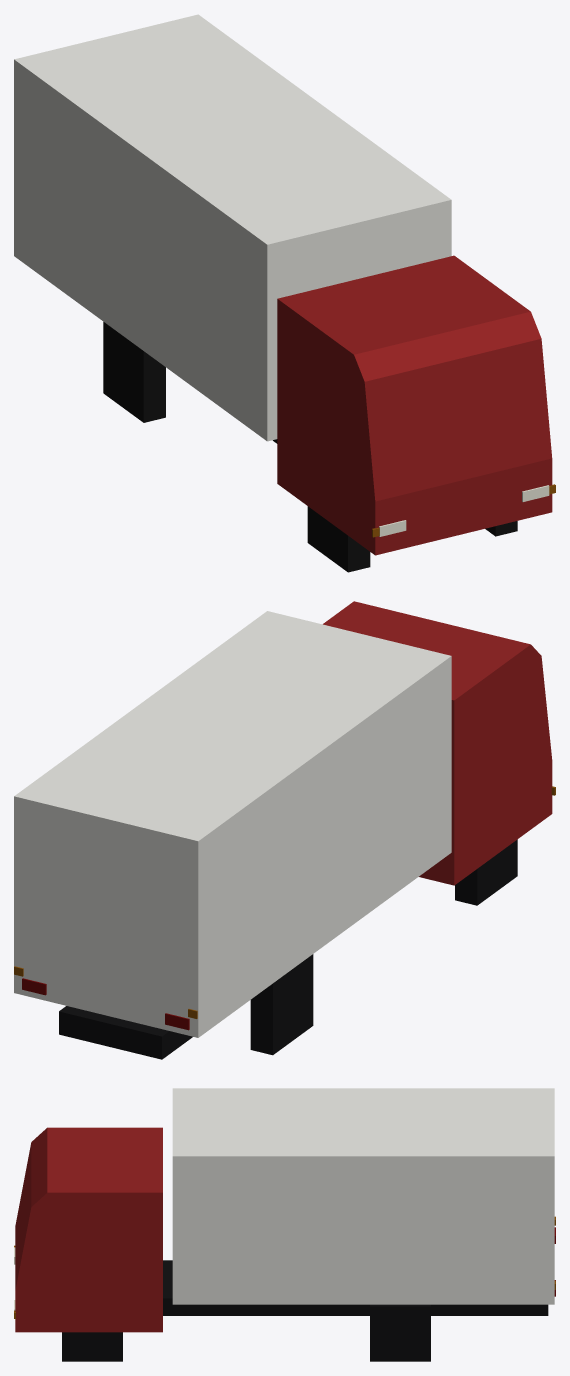
The picture shows the model from 3 angles, top to bottom: view 1: azimuth 30°, elevation 25°; view 2: azimuth 150°, elevation 25°; view 3: azimuth 270°, elevation 25°; orthographic projection. The views are drawn at different scales.
Parts seen in each view (by area): view 1: box, cab, wheels; view 2: box, cab, wheels, chassis; view 3: box, cab, wheels, chassis.
Boxes of the visible parts, x1,y1,x2,y2 form: box: [14, 14, 451, 441]; cab: [277, 255, 552, 555]; wheels: [103, 322, 517, 572]; box: [14, 611, 451, 1037]; cab: [323, 601, 552, 885]; wheels: [250, 839, 517, 1055]; chassis: [59, 1006, 192, 1059]; box: [172, 1088, 554, 1304]; cab: [15, 1127, 162, 1332]; wheels: [62, 1304, 430, 1361]; chassis: [163, 1260, 548, 1315].
Bounding box in the file's own units: 2.5 × 3.57 × 8.44.
